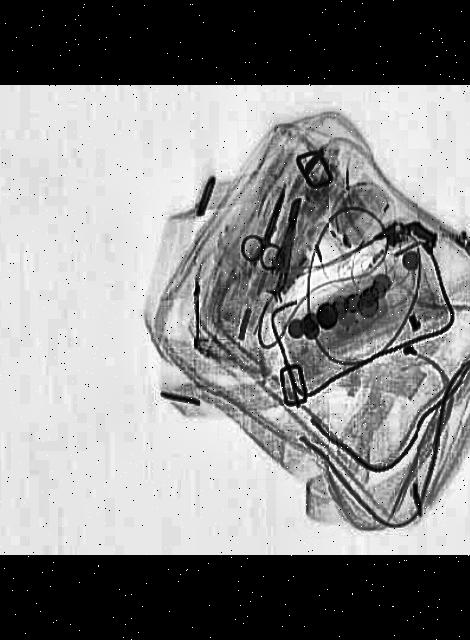Scissors: (232, 184, 304, 274)
